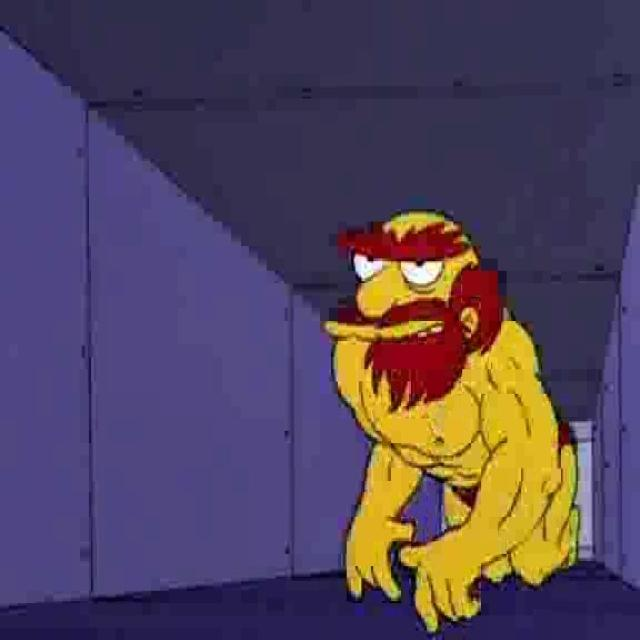Groundskeeper Willie: (324, 208, 507, 414)
